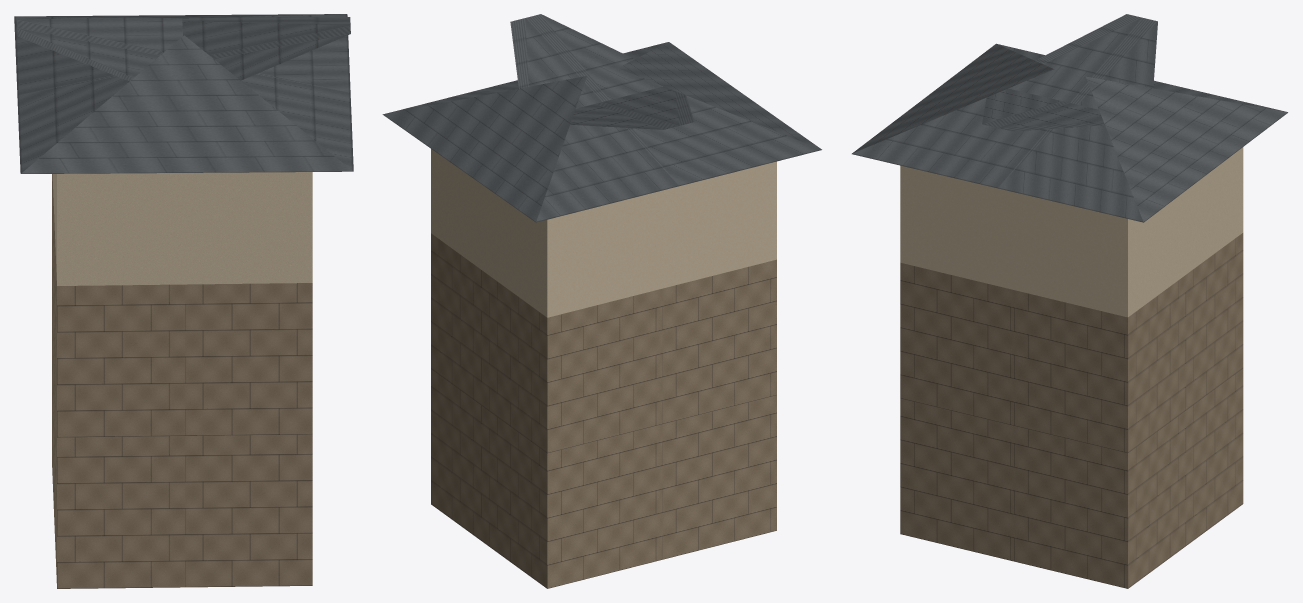
File: bld_c-2_18_532.gltf
3 renders of one model, left to right at view 1: azimuth 30°, elevation 25°; view 2: azimuth 150°, elevation 25°; view 3: azimuth 270°, elevation 25°, orthographic. The views are drawn at different scales.
Parts seen in each view (by area): view 1: bld_c-2_18_532; view 2: bld_c-2_18_532; view 3: bld_c-2_18_532.
Part boxes in pixels (box(x1,y1,x2,y2)): bld_c-2_18_532: box(14, 14, 353, 588); bld_c-2_18_532: box(382, 14, 821, 588); bld_c-2_18_532: box(852, 14, 1287, 588).
Size of the model in its own units: 6.36 by 7.4 by 6.57.
Materials: 3 (3 with a texture image).
